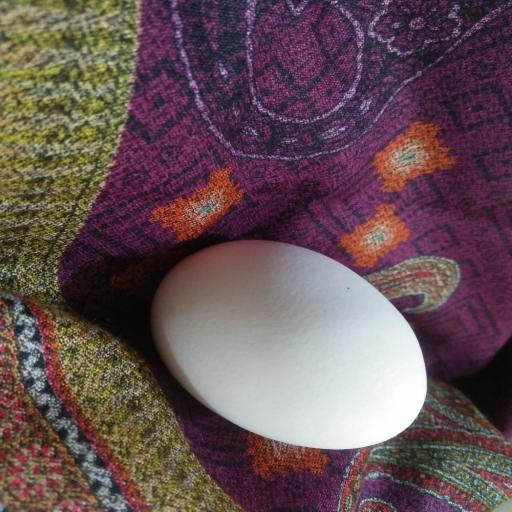telur: (136, 238, 432, 453)
